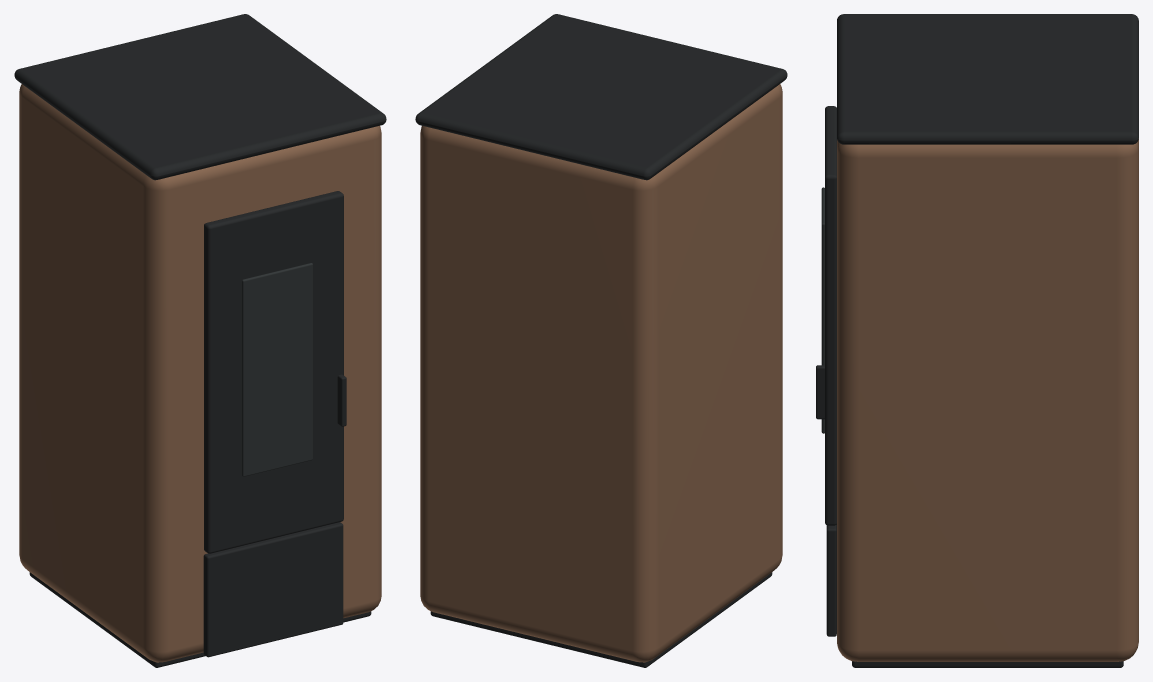
File: ravelli-easy-12-bronzo.glb
3 renders of one model, left to right at view 1: azimuth 30°, elevation 25°; view 2: azimuth 150°, elevation 25°; view 3: azimuth 270°, elevation 25°, orthographic. The views are drawn at different scales.
Visible parts, largest first — view 1: Corpo.002, Coperchio.001, Porta, Pannello inferiore, Vetro sportello.003, Zoccolo.002; view 2: Corpo.002, Coperchio.001, Zoccolo.002; view 3: Corpo.002, Coperchio.001, Porta, Zoccolo.002, Pannello inferiore, Vetro sportello.003, Maniglia.
Boxes of the visible parts, left/top/right/bottom form: Corpo.002: left=19, top=84, right=381, bottom=662; Coperchio.001: left=14, top=14, right=386, bottom=180; Porta: left=204, top=191, right=343, bottom=553; Pannello inferiore: left=203, top=522, right=343, bottom=657; Vetro sportello.003: left=241, top=263, right=312, bottom=476; Zoccolo.002: left=29, top=572, right=371, bottom=667; Corpo.002: left=420, top=84, right=782, bottom=662; Coperchio.001: left=415, top=14, right=787, bottom=180; Zoccolo.002: left=430, top=572, right=772, bottom=667; Corpo.002: left=837, top=138, right=1138, bottom=661; Coperchio.001: left=837, top=14, right=1138, bottom=144; Porta: left=825, top=106, right=836, bottom=525; Zoccolo.002: left=852, top=661, right=1123, bottom=667; Pannello inferiore: left=826, top=524, right=836, bottom=636; Vetro sportello.003: left=821, top=187, right=824, bottom=433; Maniglia: left=816, top=365, right=824, bottom=419.
Size of the model in its own units: 0.525 by 1.08 by 0.5835.
